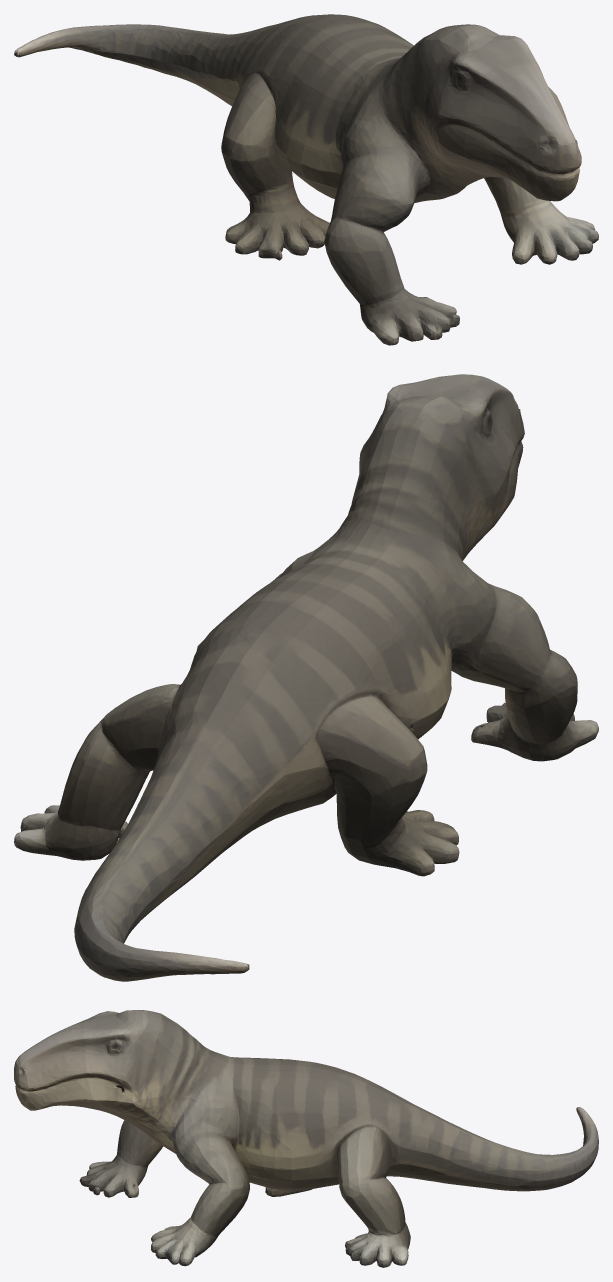
3 views of the same model, one above another, from view 1: azimuth 30°, elevation 25°; view 2: azimuth 150°, elevation 25°; view 3: azimuth 270°, elevation 25° (orthographic). The views are drawn at different scales.
Parts seen in each view (by area): view 1: world; view 2: world; view 3: world.
Part boxes in pixels (left/top/right/bottom): world: left=14, top=14, right=598, bottom=345; world: left=14, top=374, right=598, bottom=981; world: left=14, top=1010, right=598, bottom=1267.
Size of the model in its own units: 1.02 by 0.8327 by 2.2.
1 material, 1 textured.
